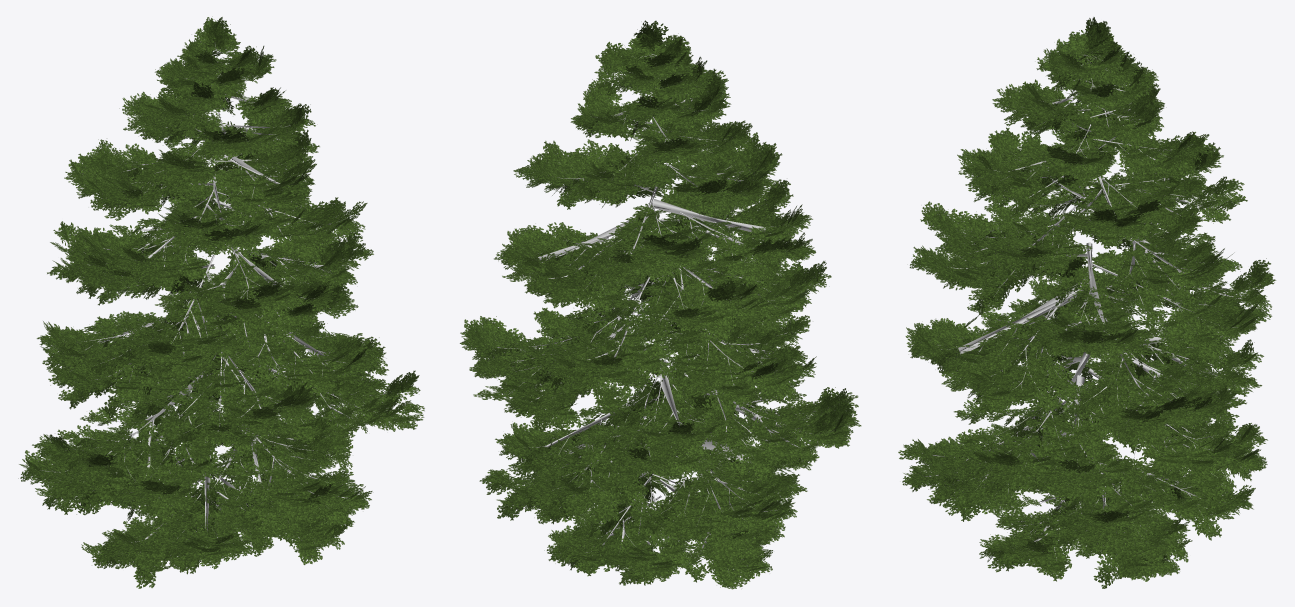
Rendered from pine_1.gltf.
3 views of the same model, side by side, from view 1: azimuth 30°, elevation 25°; view 2: azimuth 150°, elevation 25°; view 3: azimuth 270°, elevation 25° (orthographic).
Parts seen in each view (by area): view 1: LOD0; view 2: LOD0; view 3: LOD0.
Part boxes in pixels (x1=…): LOD0: x1=18, y1=17, x2=424, y2=588; LOD0: x1=460, y1=20, x2=861, y2=589; LOD0: x1=898, y1=17, x2=1275, y2=588.
Size of what is drawn, in the model's own units: 8.62 by 12.63 by 8.04.
